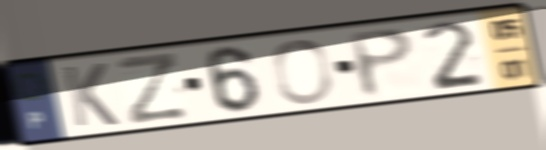2: (420, 19, 490, 94)
6: (202, 42, 265, 117)
K: (59, 61, 122, 130)
O: (270, 37, 337, 107)
P: (344, 25, 418, 101)
Z: (113, 50, 192, 129)
